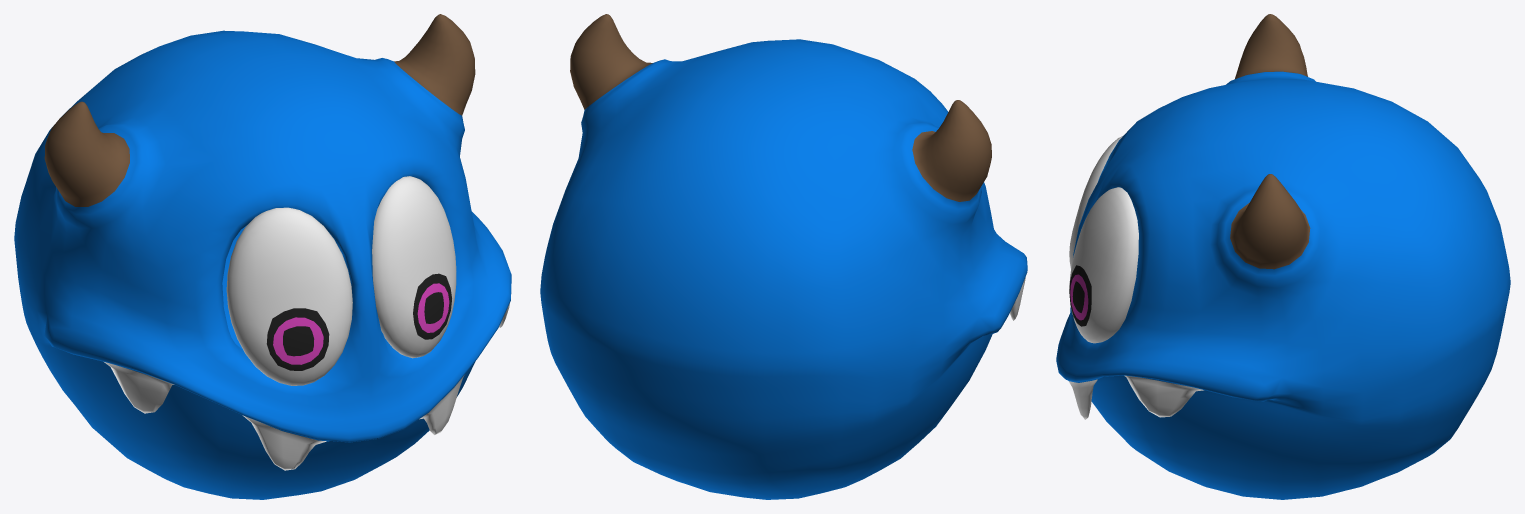
Rendered from Bluemonster.fbx.
3 renders of one model, left to right at view 1: azimuth 30°, elevation 25°; view 2: azimuth 150°, elevation 25°; view 3: azimuth 270°, elevation 25°, orthographic. The views are drawn at different scales.
Visible parts, largest first — view 1: BlueMonster; view 2: BlueMonster; view 3: BlueMonster.
Boxes of the visible parts, x1,y1,x2,y2 form: BlueMonster: (14,14,511,499); BlueMonster: (540,14,1027,499); BlueMonster: (1056,14,1510,499).
Bounding box in the file's own units: 453 × 425 × 452.
